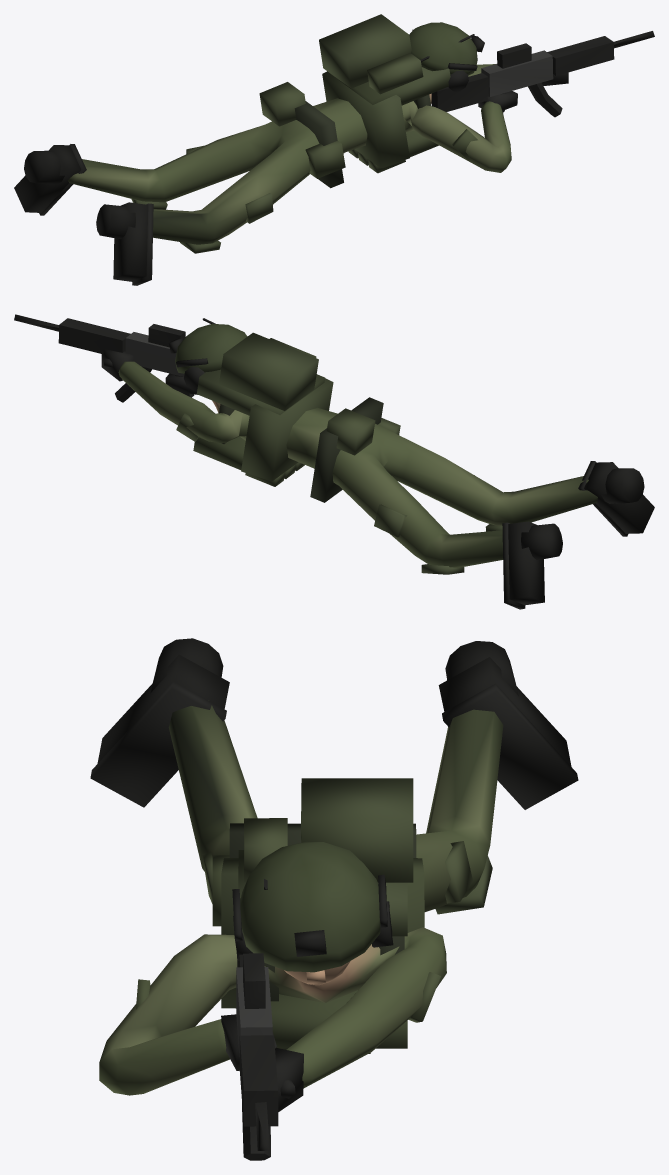
File: soldier_prone_opfor.glb
3 renders of one model, top to bottom at view 1: azimuth 30°, elevation 25°; view 2: azimuth 150°, elevation 25°; view 3: azimuth 270°, elevation 25°, orthographic. The views are drawn at different scales.
Visible parts, largest first — view 1: soldier; view 2: soldier; view 3: soldier.
Boxes of the visible parts, <box> form: soldier: <box>14,14,654,285</box>; soldier: <box>14,314,654,609</box>; soldier: <box>90,638,578,1160</box>.
Size of the model in its own units: 2.31 by 0.5803 by 0.854.
